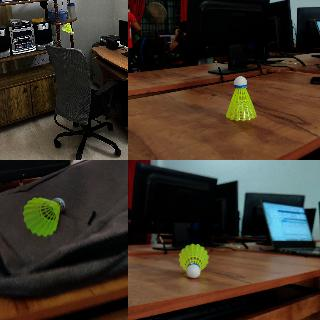shuttlecock: (23, 197, 66, 239), (226, 76, 256, 120), (178, 242, 208, 278), (61, 22, 73, 34)
